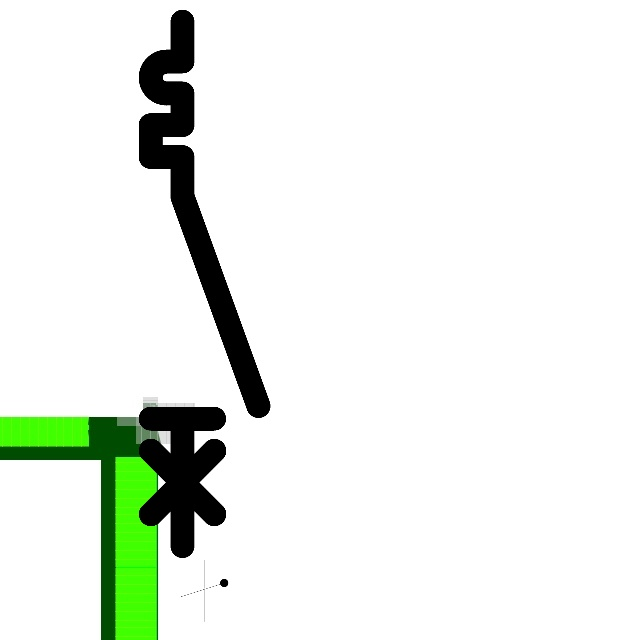interruptor_termomagnetico: (137, 8, 272, 559)
